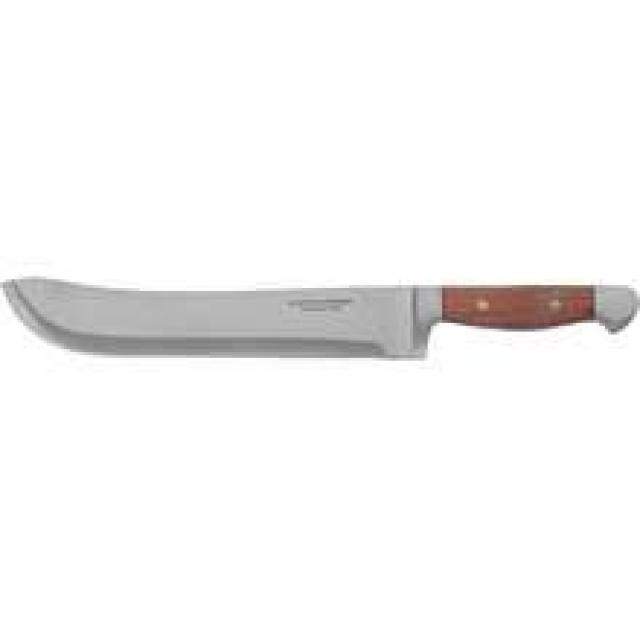Knife: (2, 106, 640, 457)
